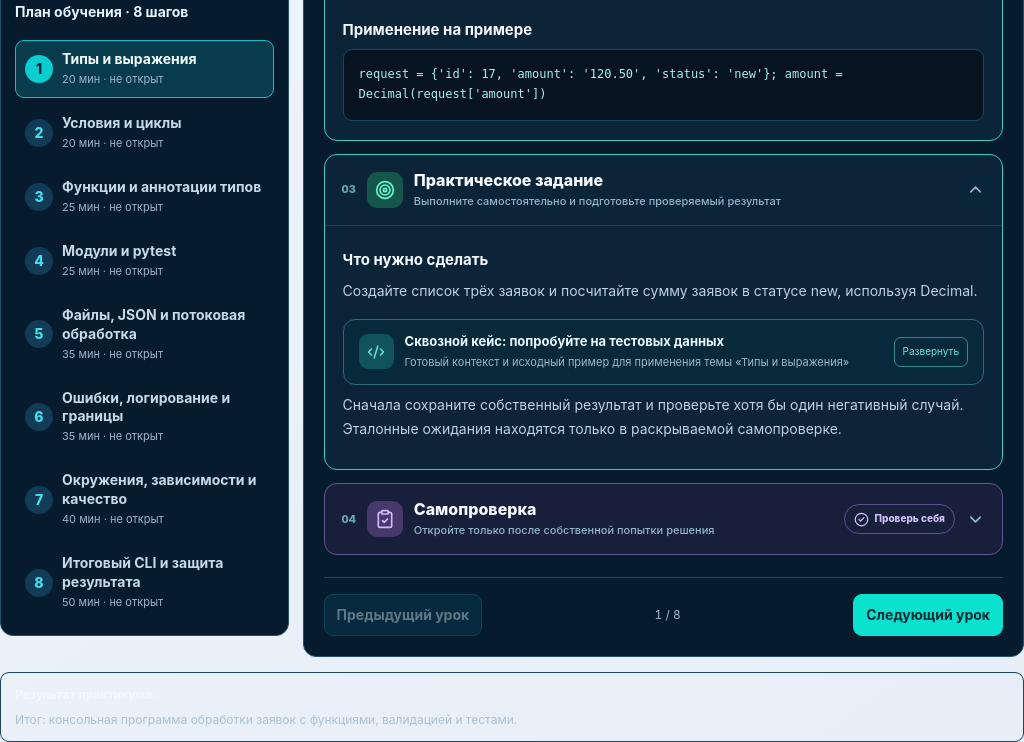
it: Bootcamp editorial course curriculum › keeps the worked case within the practical block but the answers behind self-check
(page scrolled)
Expected: the element that starts with "Практическое задание" is shown, [324,154,1003,470]
Expected: the element that starts with "Практическое задание" shows "Сквозной кейс", [405,332,724,348]
Click the button "04 Самопроверка" at (385, 519), box [325,484,1002,554]
(page scrolled)
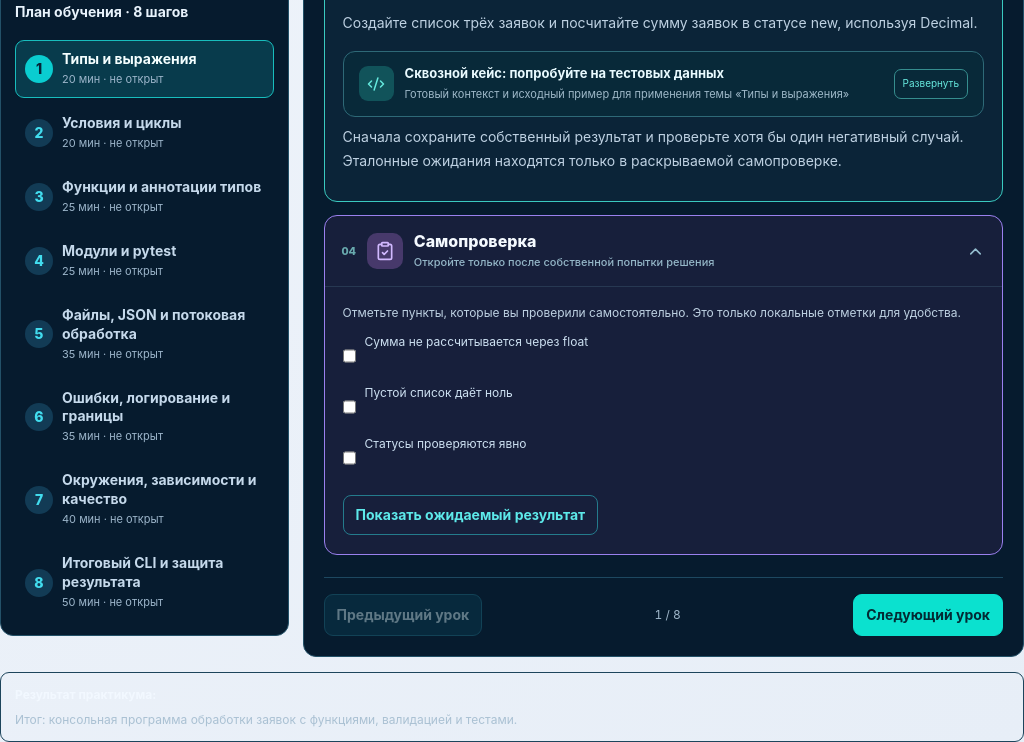
Now the button "Показать ожидаемый результат" is shown, box [343,495,598,535]
